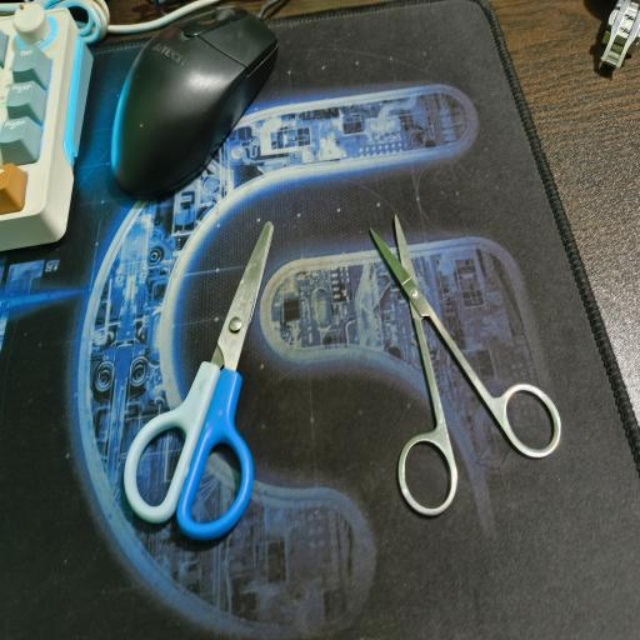scissor: (367, 212, 564, 521), (122, 214, 275, 539)
